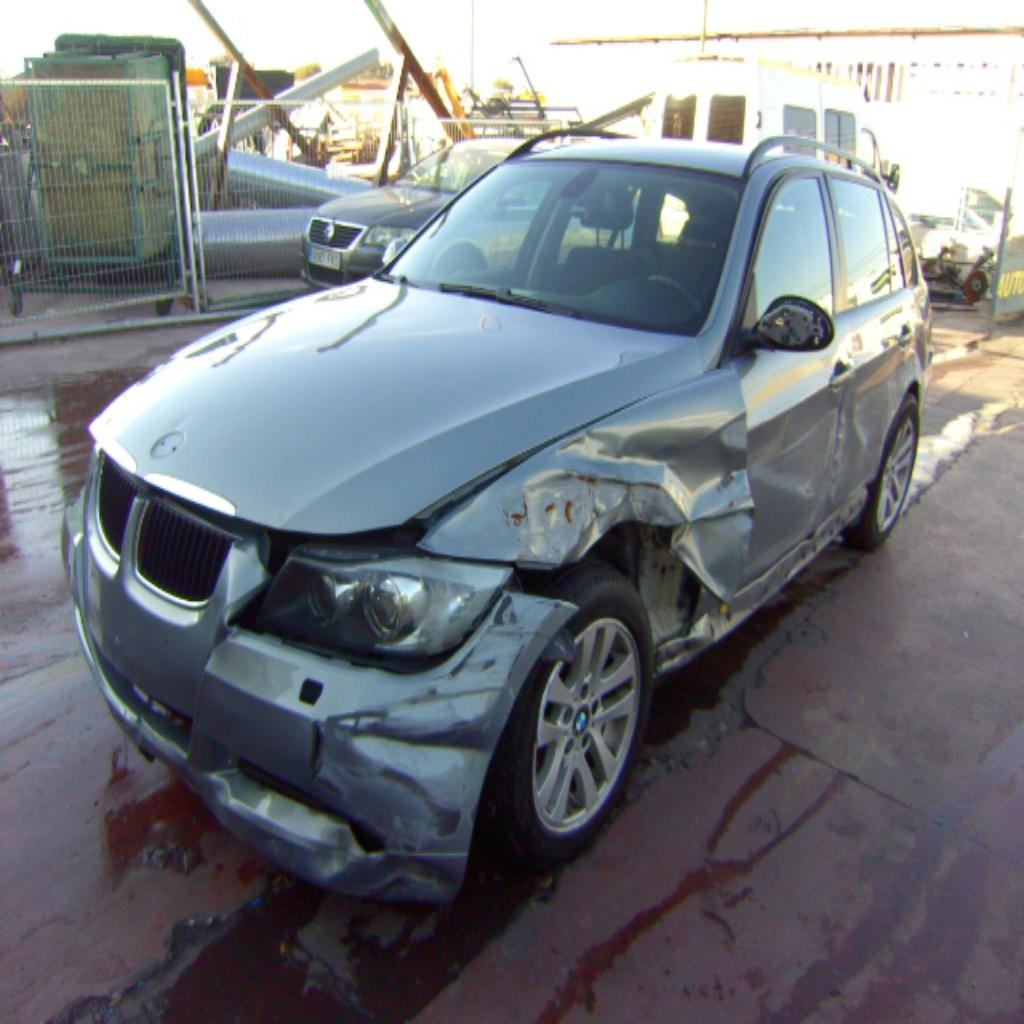Dent: (802, 370, 898, 539)
Smashed: (275, 364, 757, 904)
